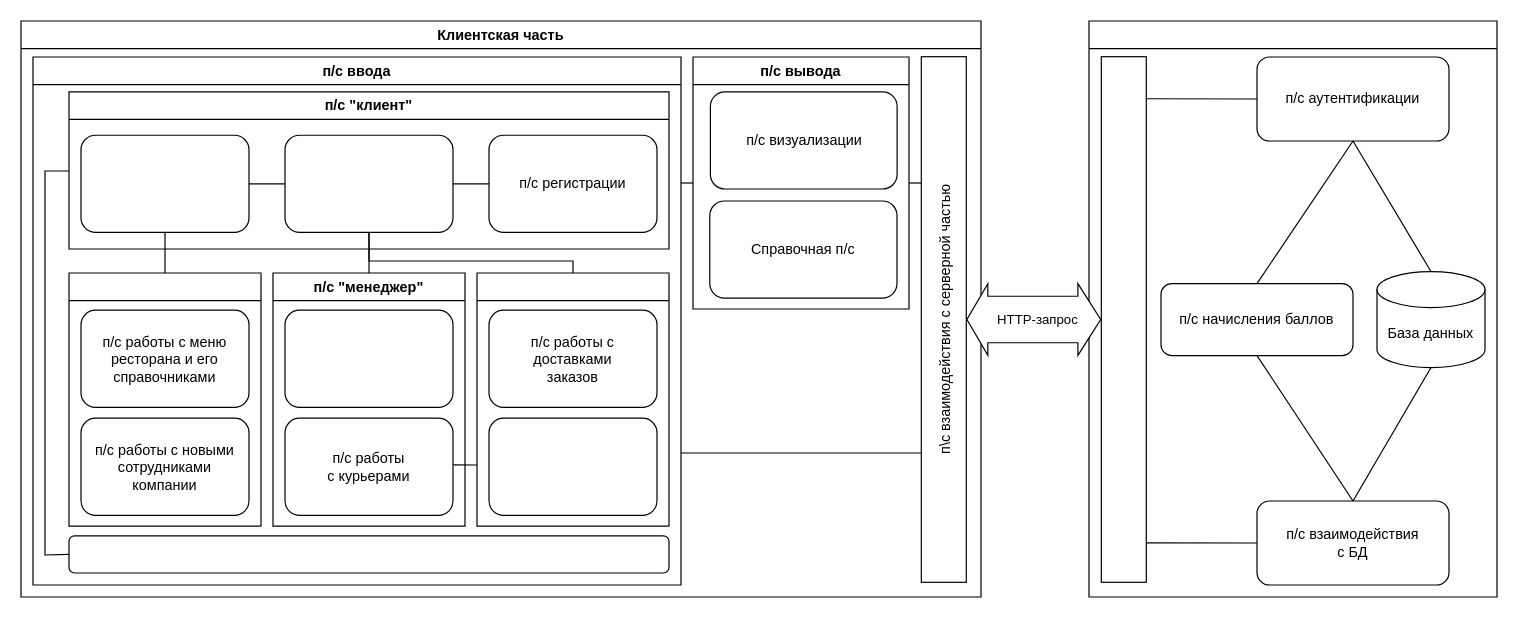
This 1518x618 diagram has some shape labels left out. Each missing label, with the box of its shape:
п/c авторизации: (68, 535, 669, 573)
п/с "администратор": (68, 272, 261, 526)
п/с "курьер": (476, 272, 669, 526)
п/с ввода информации о доставке заказа: (284, 134, 453, 232)
п/с просмотра истории доставок: (488, 417, 657, 515)
п/с работы с заказами: (284, 309, 453, 407)
п/с формирования заказа: (80, 134, 249, 232)
п\с взаимодействия с клиентской частью: (1100, 56, 1146, 582)
Серверная часть: (1088, 20, 1497, 597)
